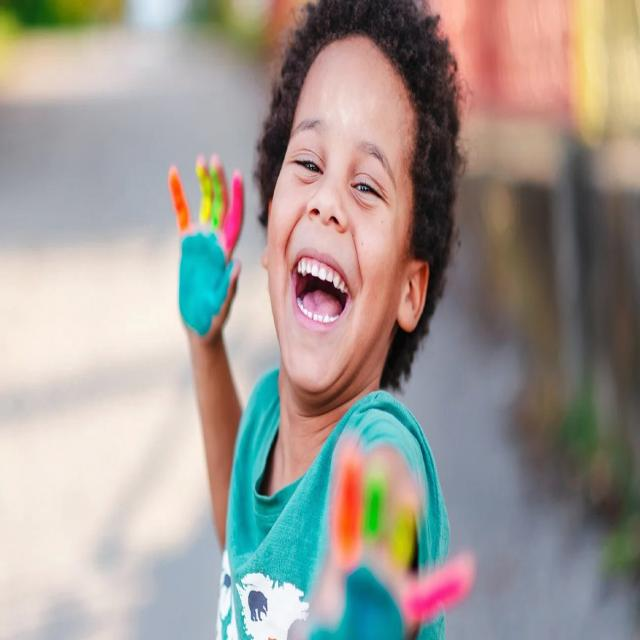child: (167, 4, 478, 640)
